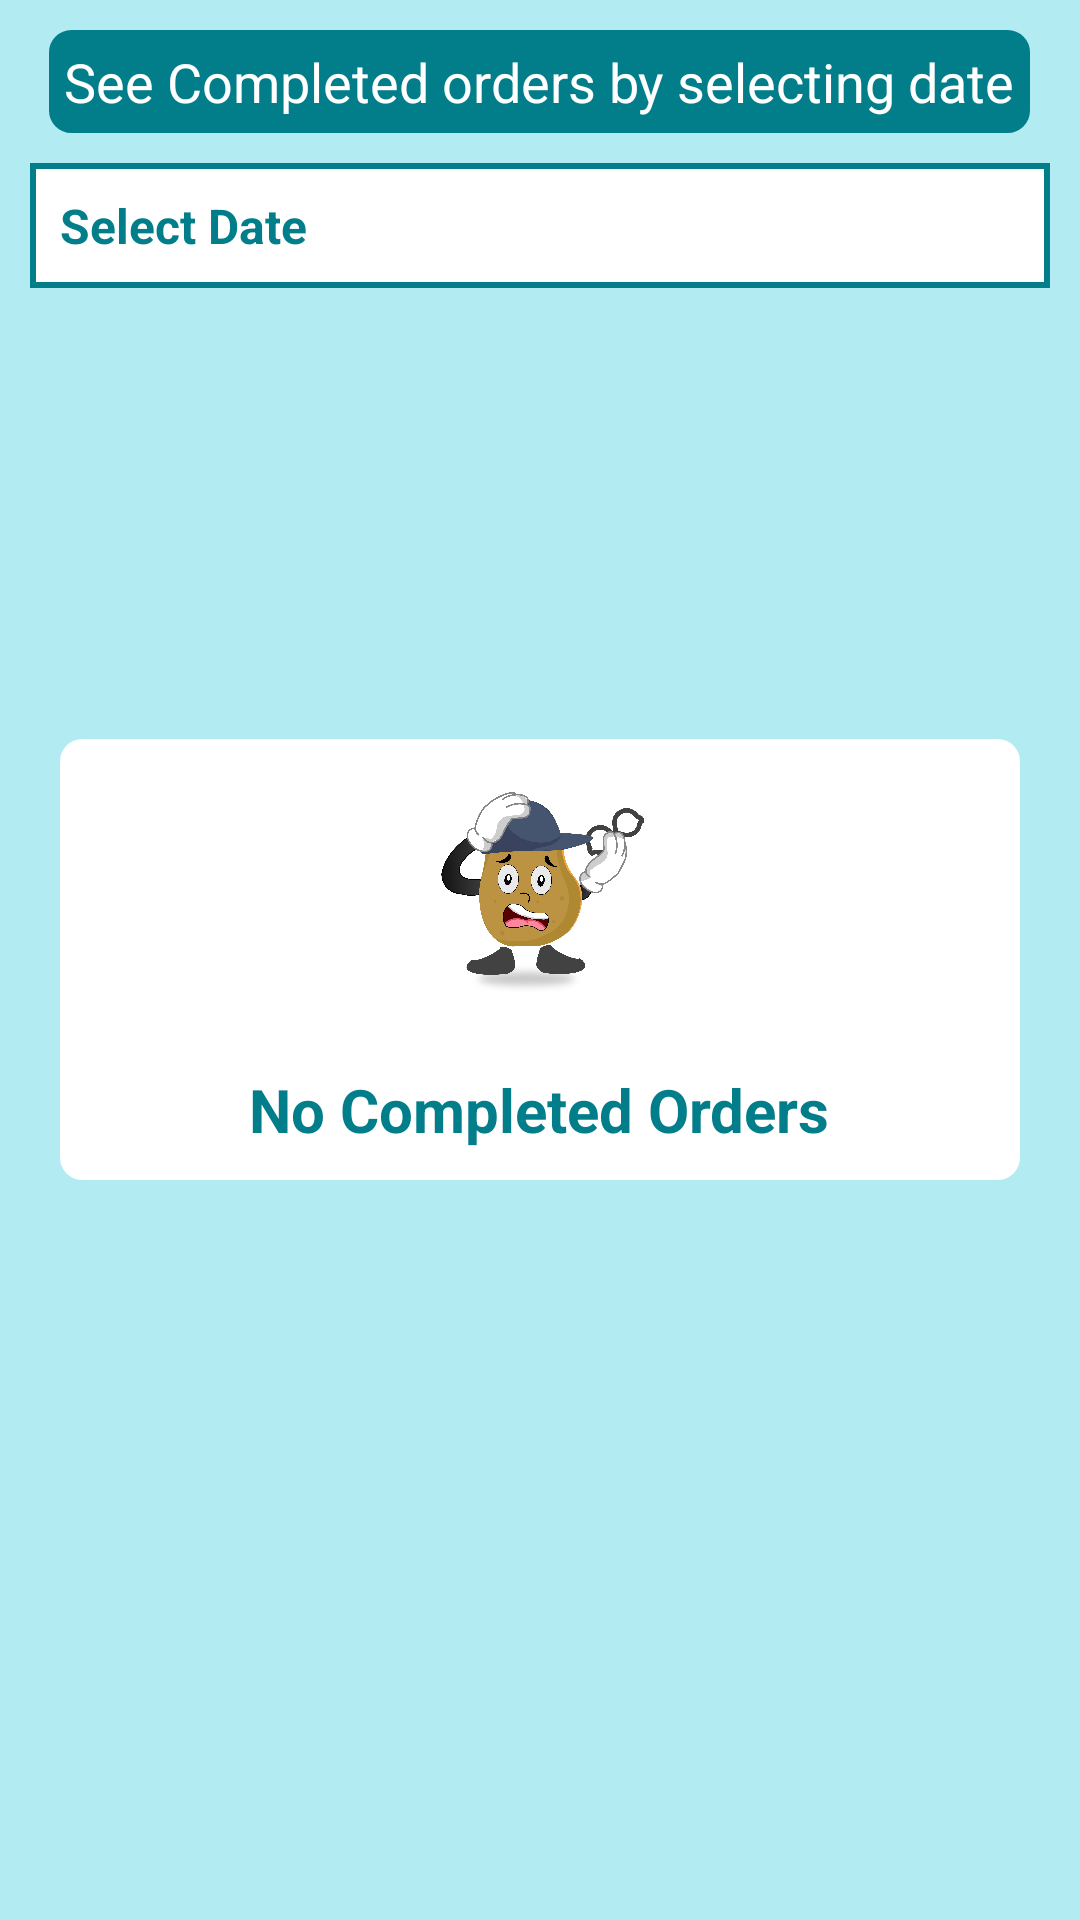

Icons on this 1080 × 1920 Android screen, each with its box as (x1, y1, x2, y2):
error putatoe: (441, 792, 644, 986)
